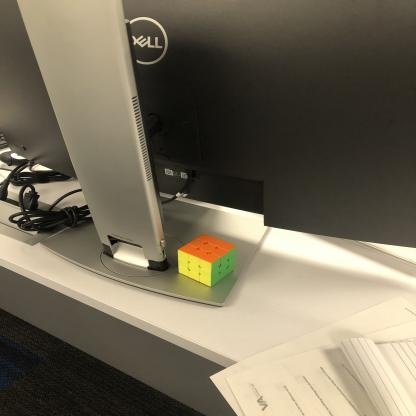SolvedCube: (174, 234, 240, 287)
